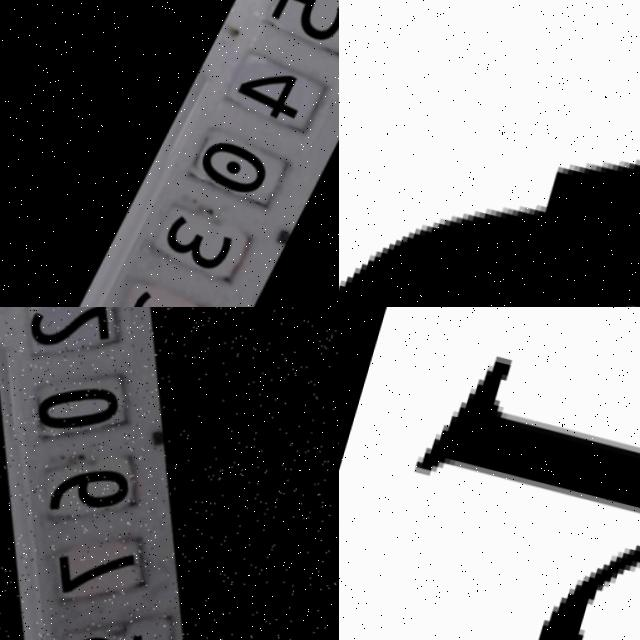0: (14, 346, 143, 456), (181, 116, 294, 207)
2: (6, 307, 131, 373)
3: (145, 194, 257, 282), (114, 270, 218, 307)
4: (220, 42, 329, 132)
5: (253, 0, 339, 51)
6: (26, 430, 154, 536)
7: (42, 512, 160, 614)
9: (54, 597, 168, 640)
F: (339, 40, 640, 307)
H: (415, 355, 640, 506)
